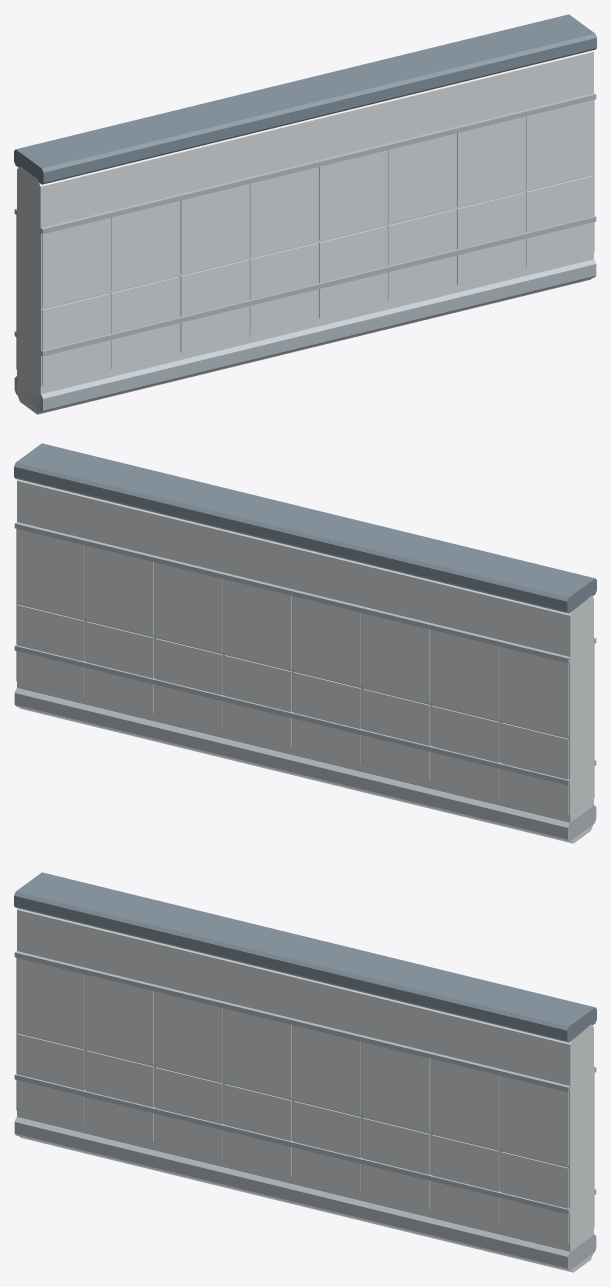
File: wall_hospital_treatment.glb
3 renders of one model, top to bottom at view 1: azimuth 30°, elevation 25°; view 2: azimuth 150°, elevation 25°; view 3: azimuth 330°, elevation 25°, orthographic.
Parts seen in each view (by area): view 1: Part_001, Part_002, Part_003, Part_005, Part_033, Part_037, Part_025, Part_029, Part_031, Part_023, Part_027, Part_035 (+10 smaller); view 2: Part_001, Part_002, Part_003, Part_004, Part_032, Part_036, Part_024, Part_028, Part_030, Part_022, Part_026, Part_034 (+10 smaller); view 3: Part_001, Part_002, Part_003, Part_005, Part_023, Part_027, Part_029, Part_031, Part_035, Part_025, Part_033, Part_037 (+10 smaller).
Boxes of the visible parts, x1=… form: Part_001: x1=17, y1=50, x2=593, y2=414; Part_002: x1=14, y1=14, x2=596, y2=184; Part_003: x1=14, y1=259, x2=596, y2=412; Part_005: x1=40, y1=99, x2=594, y2=387; Part_033: x1=388, y1=133, x2=455, y2=223; Part_037: x1=526, y1=100, x2=593, y2=189; Part_025: x1=111, y1=201, x2=178, y2=290; Part_029: x1=250, y1=167, x2=317, y2=256; Part_031: x1=319, y1=150, x2=386, y2=240; Part_023: x1=42, y1=218, x2=109, y2=307; Part_027: x1=180, y1=184, x2=247, y2=273; Part_035: x1=457, y1=117, x2=524, y2=206; Part_001: x1=17, y1=479, x2=593, y2=843; Part_002: x1=14, y1=443, x2=596, y2=613; Part_003: x1=14, y1=688, x2=596, y2=841; Part_004: x1=16, y1=528, x2=570, y2=816; Part_032: x1=155, y1=562, x2=222, y2=652; Part_036: x1=17, y1=529, x2=84, y2=618; Part_024: x1=432, y1=630, x2=499, y2=719; Part_028: x1=293, y1=596, x2=360, y2=685; Part_030: x1=224, y1=579, x2=291, y2=669; Part_022: x1=501, y1=647, x2=568, y2=736; Part_026: x1=363, y1=613, x2=430, y2=702; Part_034: x1=86, y1=546, x2=153, y2=635; Part_001: x1=17, y1=908, x2=593, y2=1272; Part_002: x1=14, y1=872, x2=596, y2=1042; Part_003: x1=14, y1=1117, x2=596, y2=1270; Part_005: x1=16, y1=957, x2=570, y2=1245; Part_023: x1=17, y1=958, x2=84, y2=1047; Part_027: x1=155, y1=991, x2=222, y2=1081; Part_029: x1=224, y1=1008, x2=291, y2=1098; Part_031: x1=293, y1=1025, x2=360, y2=1114; Part_035: x1=432, y1=1059, x2=499, y2=1148; Part_025: x1=86, y1=975, x2=153, y2=1064; Part_033: x1=363, y1=1042, x2=430, y2=1131; Part_037: x1=501, y1=1076, x2=568, y2=1165.
Size of the model in its own units: 2.7 by 1.16 by 0.25.
